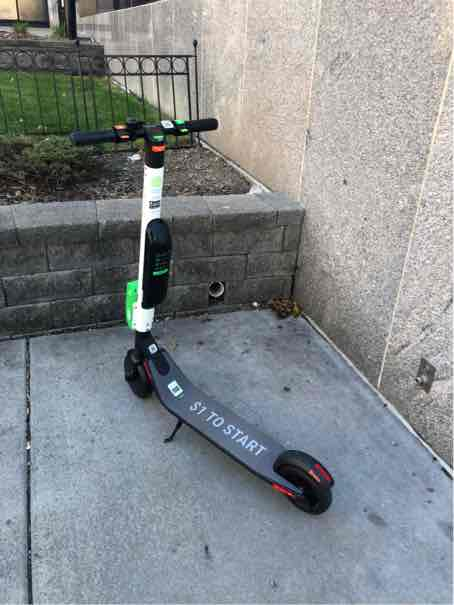scooter: (60, 116, 335, 506)
